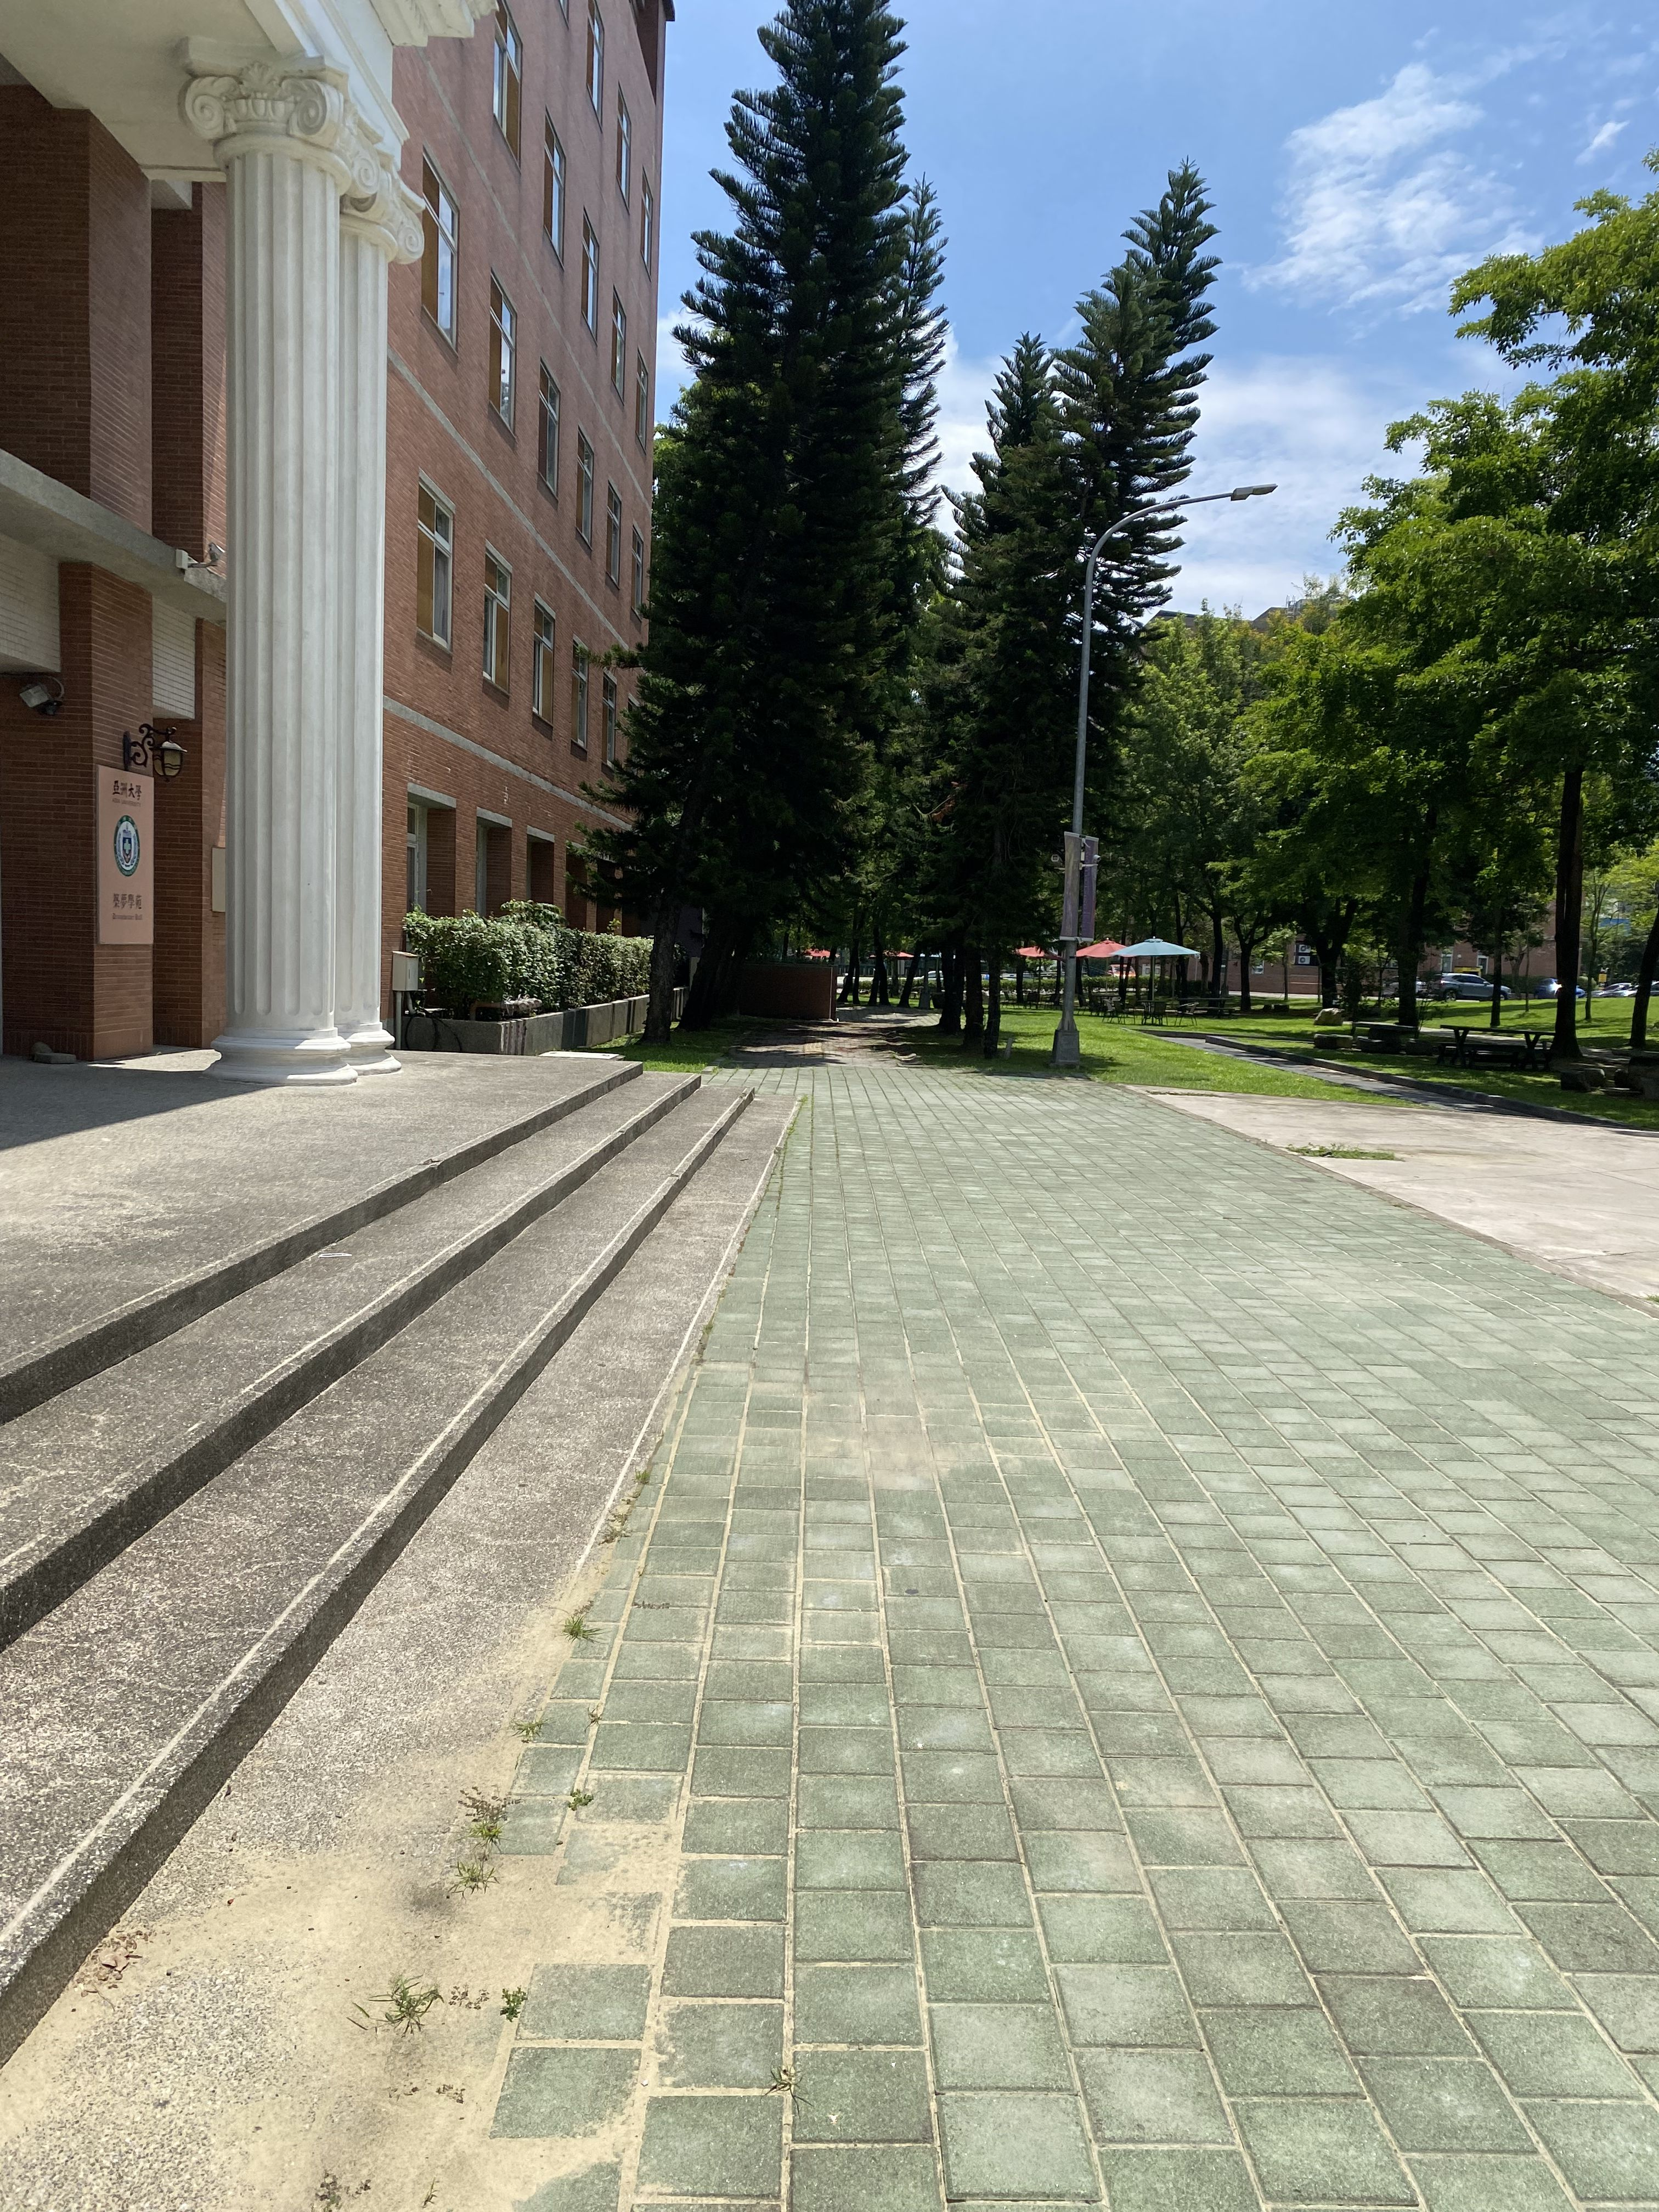0: (0, 1644, 697, 2212)
sidewalk: (657, 977, 1659, 2212)
